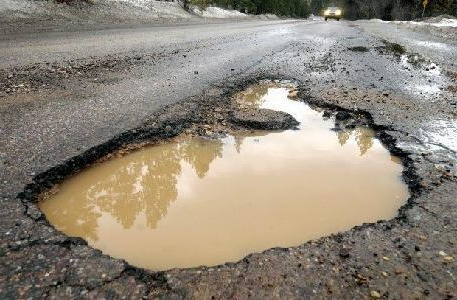pothole: (15, 72, 424, 278)
